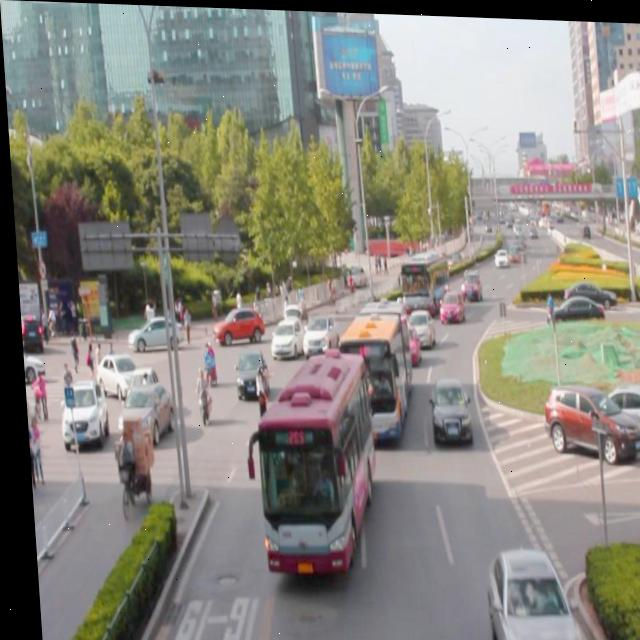car: (477, 541, 573, 640), (275, 380, 324, 446), (342, 307, 393, 362), (423, 374, 465, 439), (206, 303, 262, 346), (229, 347, 266, 396), (298, 309, 335, 357), (266, 313, 300, 358), (401, 304, 431, 347), (389, 321, 417, 364), (433, 285, 459, 319), (454, 267, 480, 300)
van: (249, 345, 367, 569), (335, 297, 407, 441), (395, 249, 443, 316)
